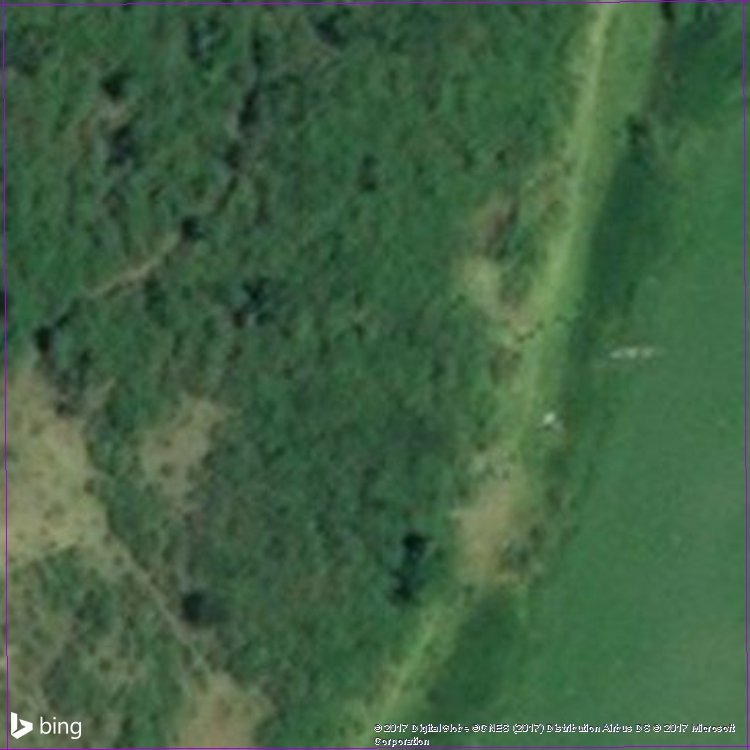boat: (595, 339, 669, 365)
